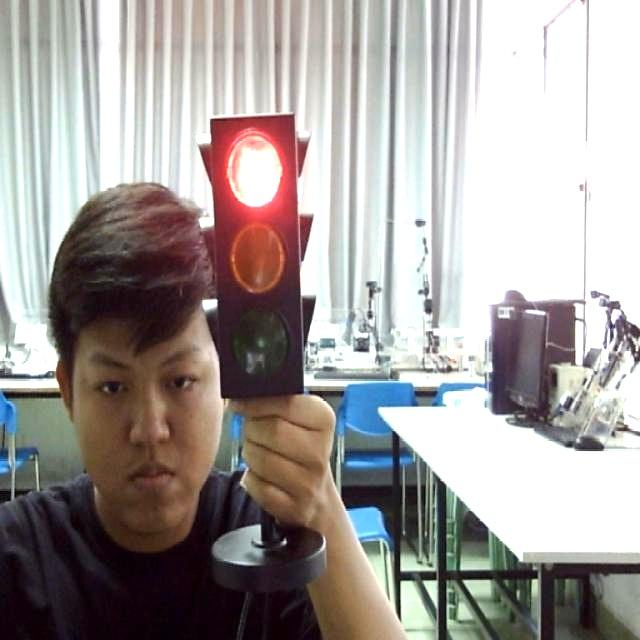Red: (204, 108, 318, 404)
